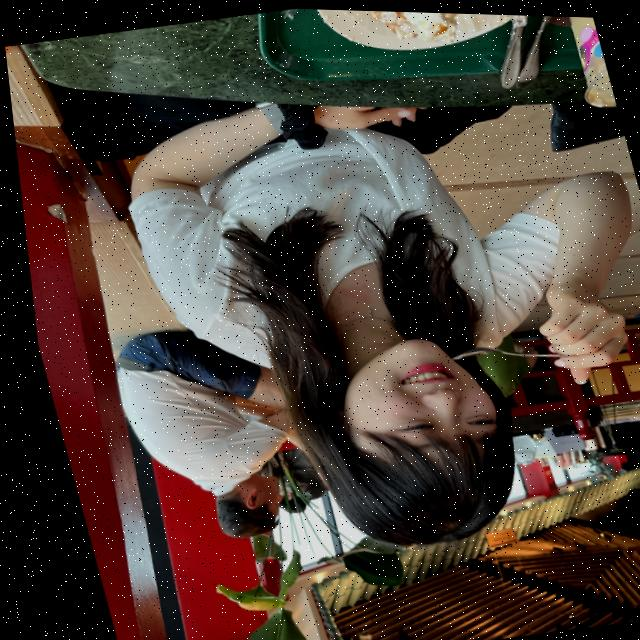eating-person: (70, 2, 640, 593)
